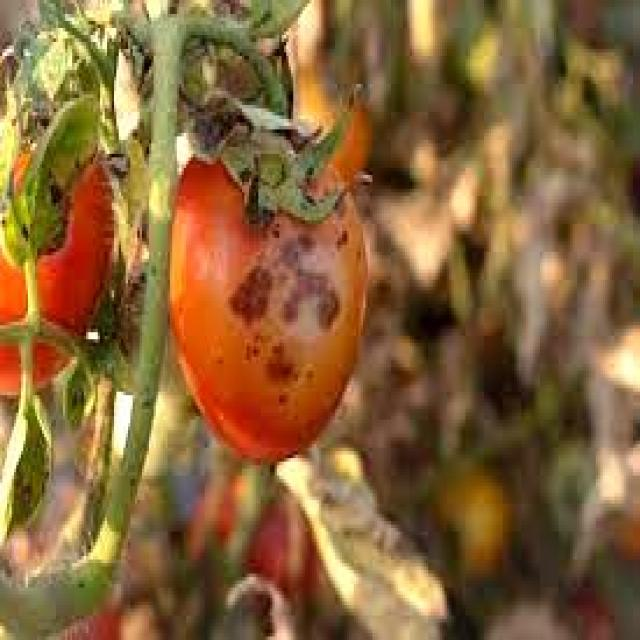Rotten_Tomato: (170, 112, 370, 472)
